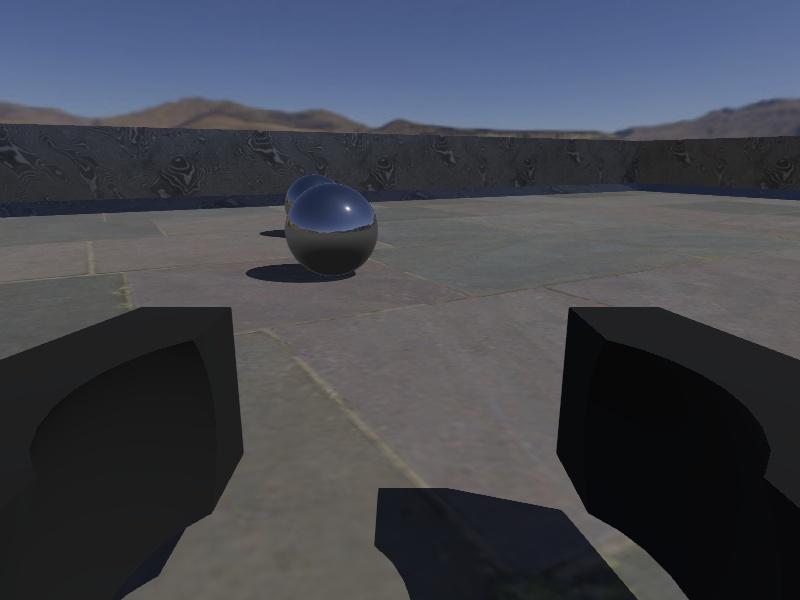steel ball: (284, 182, 379, 278)
